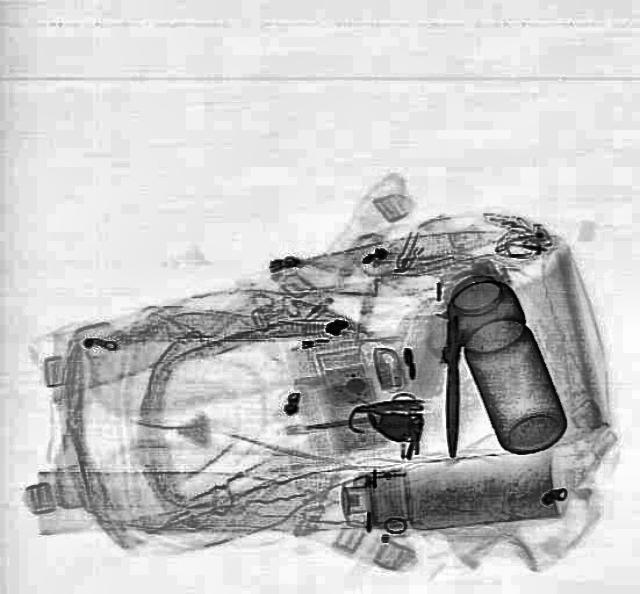Knife: (441, 316, 462, 457)
